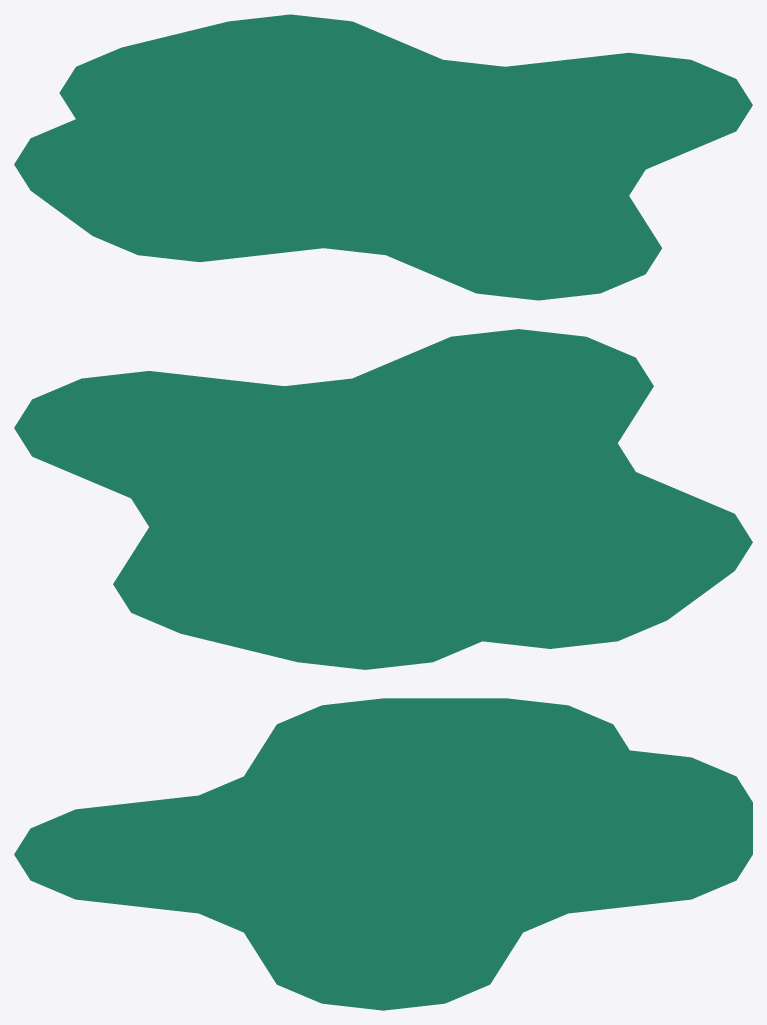
File: kenney-survival-patch-grass.glb
3 renders of one model, top to bottom at view 1: azimuth 30°, elevation 25°; view 2: azimuth 150°, elevation 25°; view 3: azimuth 270°, elevation 25°, orthographic. The views are drawn at different scales.
Parts seen in each view (by area): view 1: patch-grass; view 2: patch-grass; view 3: patch-grass.
Part boxes in pixels (left/top/right/bottom): patch-grass: left=14, top=14, right=752, bottom=300; patch-grass: left=14, top=329, right=752, bottom=669; patch-grass: left=14, top=698, right=752, bottom=1010.
Size of the model in its own units: 1.2 by 0 by 1.2.
1 material, 1 textured.
